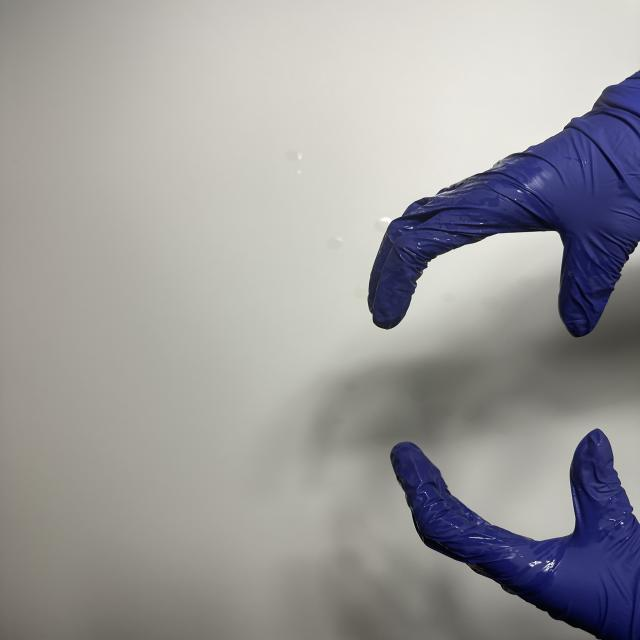gloves_contaminated: (368, 71, 640, 336), (390, 429, 640, 640)
